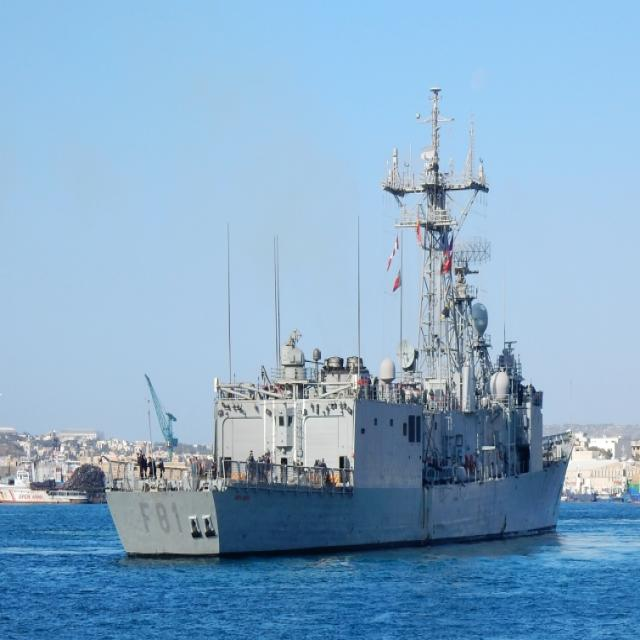Fragata: (100, 84, 576, 563)
